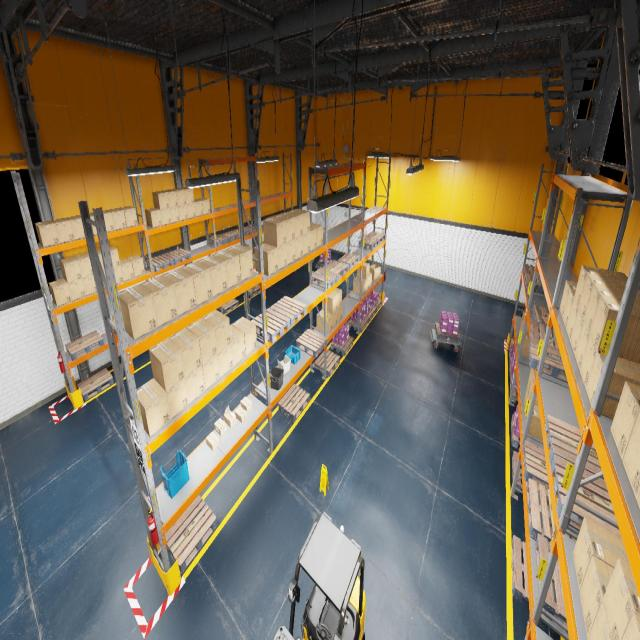box: (573, 517, 629, 591), (586, 350, 640, 420), (590, 295, 640, 363), (602, 558, 640, 640), (584, 283, 640, 334), (580, 555, 614, 639), (578, 274, 640, 320), (610, 382, 640, 461), (574, 265, 628, 308), (118, 284, 157, 339), (137, 378, 170, 437), (148, 338, 184, 392), (140, 276, 178, 327), (168, 328, 202, 378), (161, 268, 196, 316), (622, 410, 640, 500), (186, 318, 217, 364), (180, 262, 212, 306), (202, 309, 231, 353), (197, 255, 227, 296), (212, 249, 241, 288), (231, 316, 257, 356), (226, 244, 253, 281), (166, 378, 188, 420), (580, 335, 596, 389), (588, 602, 610, 640), (254, 243, 278, 276), (185, 365, 205, 404), (263, 217, 286, 247), (575, 322, 589, 371), (560, 280, 578, 318), (48, 278, 72, 306), (202, 353, 220, 390), (35, 220, 59, 247), (570, 309, 584, 355), (230, 324, 245, 366), (51, 217, 75, 243), (273, 214, 294, 243), (59, 256, 82, 282), (528, 404, 543, 441), (282, 211, 302, 238), (218, 343, 233, 378), (290, 208, 310, 234), (566, 298, 578, 340), (74, 252, 93, 278), (563, 288, 575, 329), (622, 614, 640, 640), (67, 215, 85, 240), (107, 208, 126, 230), (119, 206, 138, 227), (127, 255, 145, 277), (68, 278, 86, 300), (317, 310, 332, 334), (88, 249, 104, 271), (322, 292, 337, 314), (310, 222, 323, 247), (145, 208, 162, 227), (120, 258, 134, 281), (529, 371, 538, 405), (152, 191, 169, 209), (162, 190, 178, 208), (82, 275, 96, 295), (277, 243, 287, 270), (224, 405, 236, 427), (102, 210, 114, 232), (179, 187, 194, 204), (171, 188, 186, 205), (206, 432, 219, 451), (214, 418, 227, 436), (353, 277, 366, 295), (286, 239, 295, 265), (109, 246, 120, 267), (196, 198, 210, 214), (332, 288, 342, 309), (521, 333, 530, 356), (235, 406, 247, 423), (294, 235, 302, 260), (369, 264, 381, 280), (240, 396, 252, 412), (357, 263, 369, 279), (113, 265, 123, 284), (160, 208, 171, 225), (302, 232, 310, 255), (89, 212, 97, 235), (169, 206, 180, 222), (178, 204, 188, 220), (522, 310, 529, 332), (358, 277, 369, 291), (520, 326, 528, 345), (525, 392, 530, 422), (310, 227, 316, 251), (194, 200, 203, 216), (528, 368, 534, 391), (187, 203, 196, 218), (524, 382, 529, 408), (520, 308, 526, 325), (337, 305, 342, 323), (332, 310, 337, 328), (519, 320, 523, 334), (103, 270, 106, 288), (637, 494, 640, 509), (369, 273, 372, 288), (252, 252, 255, 266), (112, 315, 115, 328), (245, 244, 250, 248)
forklift: (274, 511, 366, 639)
pallets: (550, 455, 622, 538), (165, 494, 217, 574), (545, 415, 604, 479), (535, 534, 568, 634), (526, 478, 576, 542), (529, 339, 568, 383), (251, 308, 290, 343), (523, 440, 549, 490), (511, 534, 529, 602), (77, 368, 114, 401), (278, 384, 310, 421), (65, 330, 104, 360), (270, 296, 306, 326), (296, 328, 327, 358), (530, 321, 558, 348), (314, 349, 340, 377), (532, 305, 553, 334), (312, 268, 339, 289), (146, 254, 174, 272), (322, 260, 349, 278), (330, 336, 354, 356), (435, 323, 459, 342), (512, 450, 522, 494), (165, 248, 191, 264), (524, 273, 543, 293), (338, 253, 359, 270), (348, 316, 369, 332), (218, 298, 238, 314), (511, 414, 520, 448), (358, 237, 379, 250), (209, 234, 230, 247), (366, 231, 386, 244), (180, 318, 199, 331), (523, 264, 539, 278), (222, 230, 240, 242), (244, 284, 260, 297), (510, 377, 517, 403), (364, 307, 376, 322), (238, 226, 256, 236), (200, 310, 219, 318), (372, 299, 382, 312), (318, 259, 332, 267), (509, 347, 513, 365), (510, 361, 512, 382), (265, 215, 275, 219), (275, 212, 285, 215)
